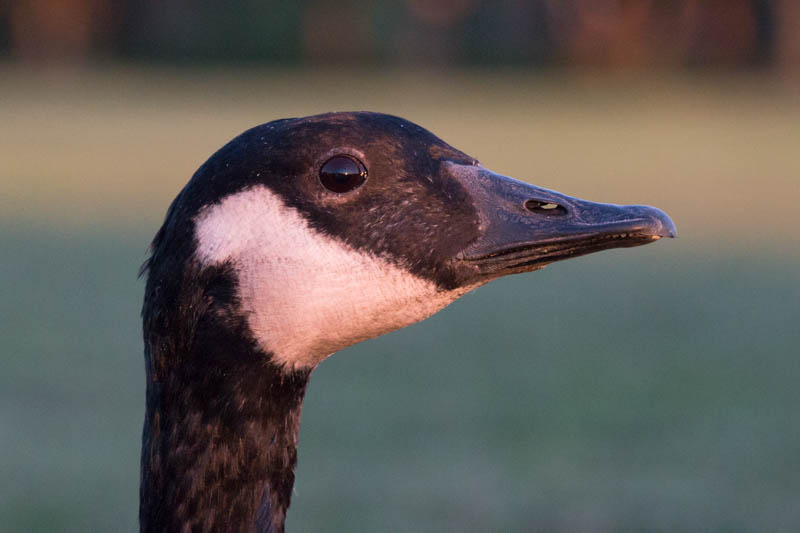goose-head: (141, 112, 679, 378)
